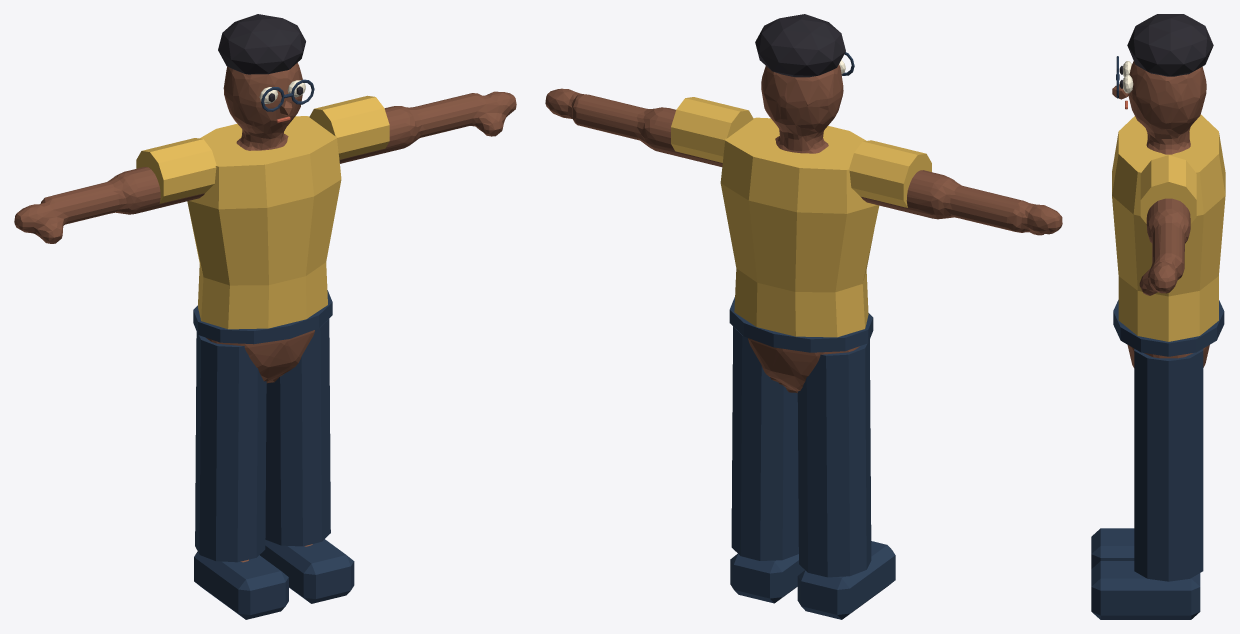
The model's file is Civilian_08.fbx.
The picture shows the model from 3 angles, left to right: view 1: azimuth 30°, elevation 25°; view 2: azimuth 150°, elevation 25°; view 3: azimuth 270°, elevation 25°; orthographic projection. The views are drawn at different scales.
Visible parts, largest first — view 1: Shirt.007, Civilian_08_Base_BaseFemale_TPose_Body, PantsLeg.014, PantsLeg.015, Shoe.014, HairCap.007, Shoe.015, Sleeve.014, Sleeve.015, Belt.007; view 2: Shirt.007, Civilian_08_Base_BaseFemale_TPose_Body, PantsLeg.014, PantsLeg.015, HairCap.007, Shoe.014, Sleeve.014, Sleeve.015, Shoe.015, Belt.007; view 3: PantsLeg.015, Shirt.007, Civilian_08_Base_BaseFemale_TPose_Body, Shoe.015, HairCap.007, Sleeve.015, Belt.007, Shoe.014.
Part boxes in pixels (x1,y1,x2,y2): Shirt.007: (187,116,341,329); Civilian_08_Base_BaseFemale_TPose_Body: (14,62,516,562); PantsLeg.014: (195,332,266,562); PantsLeg.015: (265,319,330,546); Shoe.014: (194,551,288,619); HairCap.007: (218,14,305,74); Shoe.015: (260,539,354,603); Sleeve.014: (136,138,216,203); Sleeve.015: (309,95,389,159); Belt.007: (193,290,332,344); Shirt.007: (720,117,879,337); Civilian_08_Base_BaseFemale_TPose_Body: (545,64,1062,393); PantsLeg.014: (797,339,871,577); PantsLeg.015: (731,326,798,560); HairCap.007: (755,14,845,77); Shoe.014: (797,541,895,619); Sleeve.014: (849,140,931,207); Sleeve.015: (671,97,753,162); Shoe.015: (730,553,804,603); Belt.007: (729,297,873,352); PantsLeg.015: (1134,349,1203,581); Shirt.007: (1112,114,1225,341); Civilian_08_Base_BaseFemale_TPose_Body: (1127,61,1209,367); Shoe.015: (1091,561,1200,619); HairCap.007: (1127,14,1213,76); Sleeve.015: (1140,155,1196,223); Belt.007: (1113,300,1224,356); Shoe.014: (1091,528,1134,568).
Size of the model in its own units: 1.61 by 1.75 by 0.3664.
